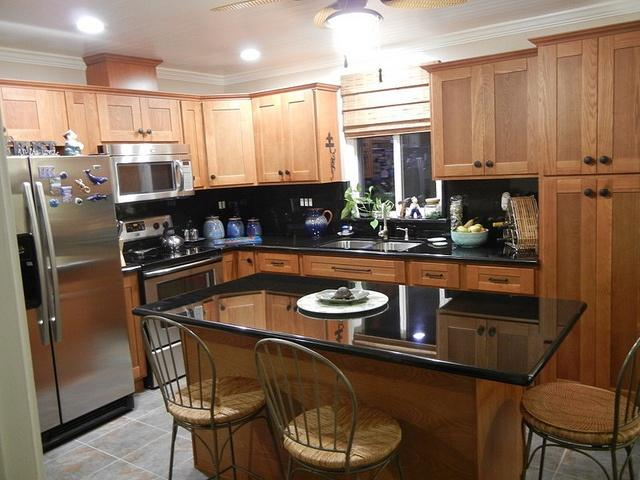Kursi: (137, 313, 287, 479), (253, 336, 403, 479), (516, 334, 639, 478)
Lemari: (536, 26, 639, 403), (180, 85, 321, 192), (429, 53, 538, 176)
